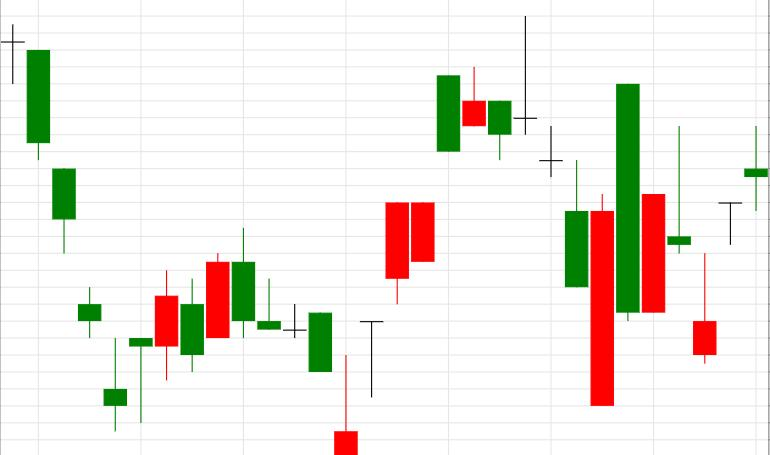inverse_hammer_rise: (231, 229, 358, 455)
